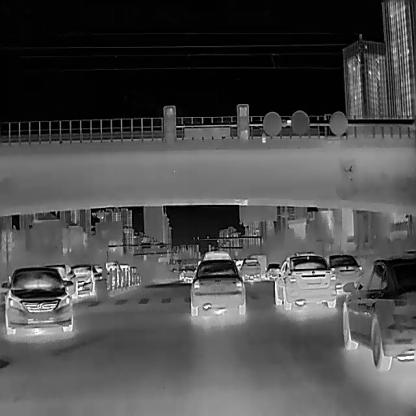car: (342, 254, 415, 372), (0, 266, 74, 334), (274, 252, 336, 309), (188, 261, 246, 315), (324, 253, 362, 291), (42, 263, 78, 301), (71, 262, 95, 295), (239, 257, 261, 281), (264, 262, 281, 280), (202, 249, 231, 259), (183, 265, 195, 281)
truck: (246, 253, 266, 278)
